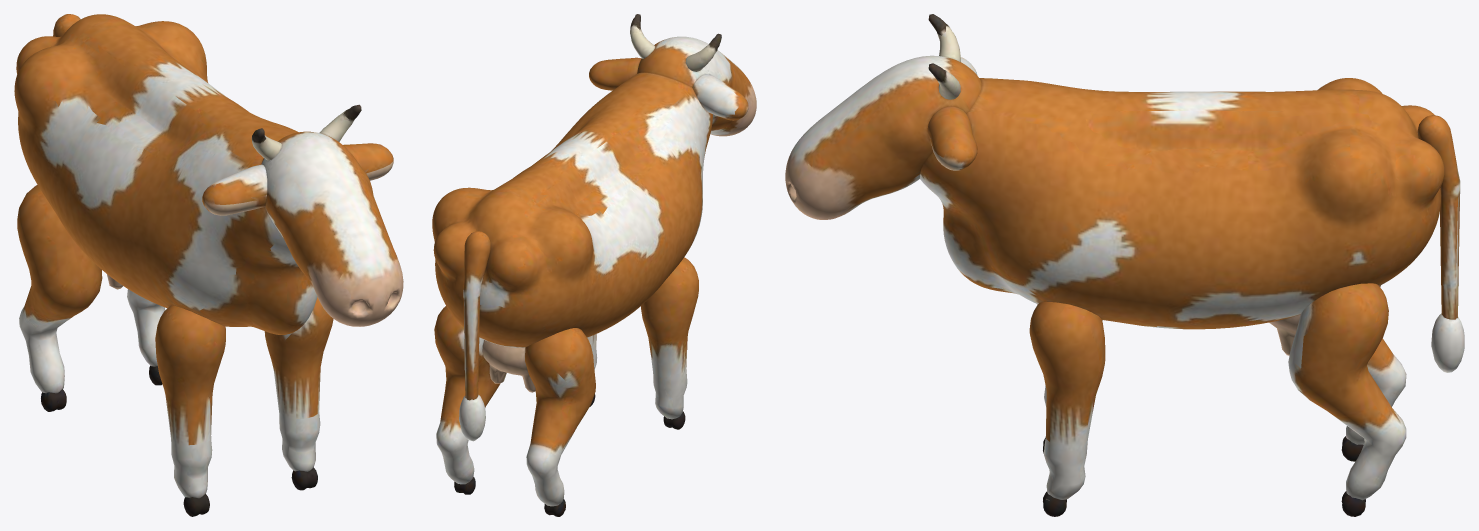
Rendered from animal_guernsey.glb.
3 views of the same model, side by side, from view 1: azimuth 30°, elevation 25°; view 2: azimuth 150°, elevation 25°; view 3: azimuth 270°, elevation 25° (orthographic). The views are drawn at different scales.
Parts seen in each view (by area): view 1: animal_guernsey, head, leg2, leg0, leg1, leg3; view 2: animal_guernsey, leg2, head, leg0, leg3, tail; view 3: animal_guernsey, head, leg3, leg1, tail, leg2.
Boxes of the visible parts, x1=… form: animal_guernsey: x1=14, y1=14, x2=317, y2=334; head: x1=202, y1=104, x2=403, y2=326; leg2: x1=17, y1=185, x2=102, y2=411; leg0: x1=155, y1=305, x2=225, y2=516; leg1: x1=264, y1=297, x2=333, y2=490; leg3: x1=127, y1=289, x2=165, y2=385; animal_guernsey: x1=432, y1=72, x2=712, y2=392; leg2: x1=525, y1=328, x2=595, y2=516; head: x1=589, y1=14, x2=756, y2=136; leg0: x1=641, y1=257, x2=698, y2=429; leg3: x1=434, y1=306, x2=500, y2=494; tail: x1=459, y1=231, x2=490, y2=441; animal_guernsey: x1=920, y1=78, x2=1444, y2=355; head: x1=785, y1=14, x2=981, y2=219; leg3: x1=1288, y1=283, x2=1406, y2=516; leg1: x1=1029, y1=302, x2=1105, y2=516; tail: x1=1417, y1=115, x2=1464, y2=372; leg2: x1=1341, y1=285, x2=1406, y2=461.
Size of the model in its own units: 0.2778 by 0.5896 by 0.8126.
Materials: 1 (1 with a texture image).
